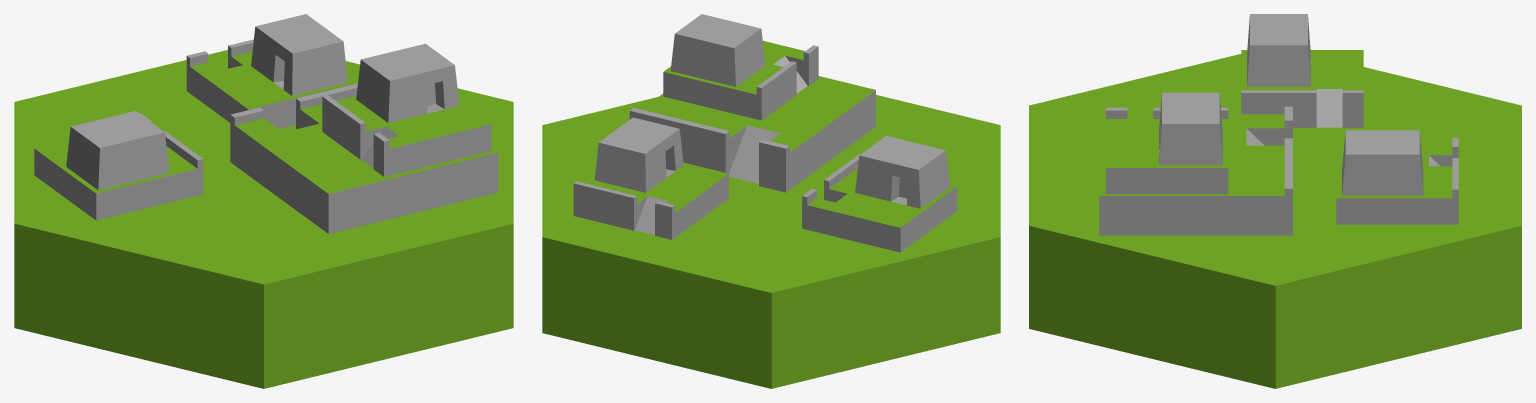
File: Asentamiento.fbx
3 views of the same model, side by side, from view 1: azimuth 30°, elevation 25°; view 2: azimuth 150°, elevation 25°; view 3: azimuth 270°, elevation 25° (orthographic). The views are drawn at different scales.
Visible parts, largest first — view 1: Asentamiento; view 2: Asentamiento; view 3: Asentamiento.
Part boxes in pixels (x1=…): Asentamiento: x1=14, y1=14, x2=513, y2=388; Asentamiento: x1=542, y1=14, x2=1000, y2=388; Asentamiento: x1=1029, y1=14, x2=1521, y2=388.
Bounding box in the file's own units: 200 × 81.06 × 173.
